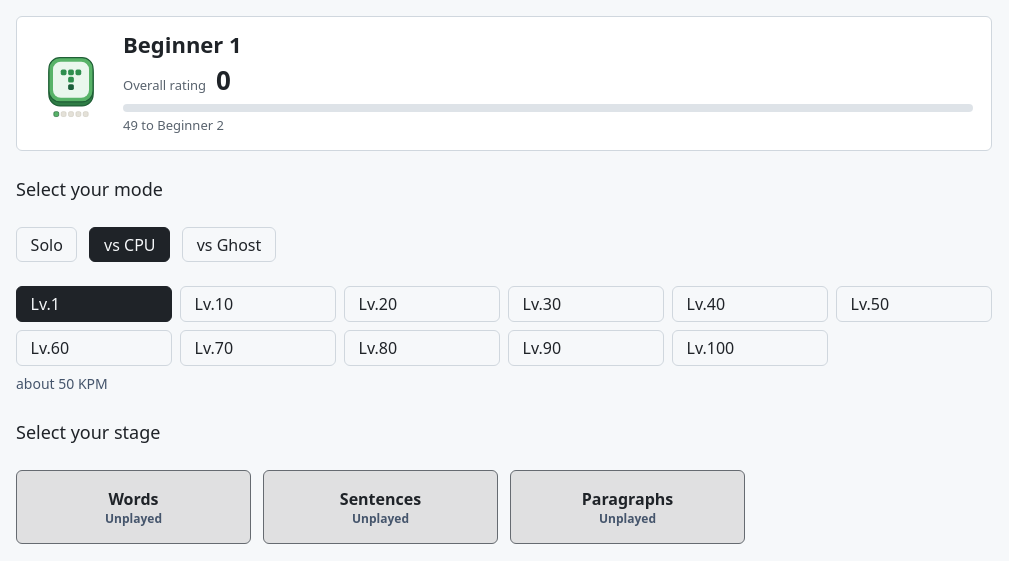
each screen shows one track › starts a run in a pool of the track, named by its kind, and hints the track's CPU speed
This screenshot has width=1009, height=561.
Expected: the button "Words Unplayed" is shown, [16,470,251,544]
Click the button "vs CPU": (130, 245) [90,227,170,262]
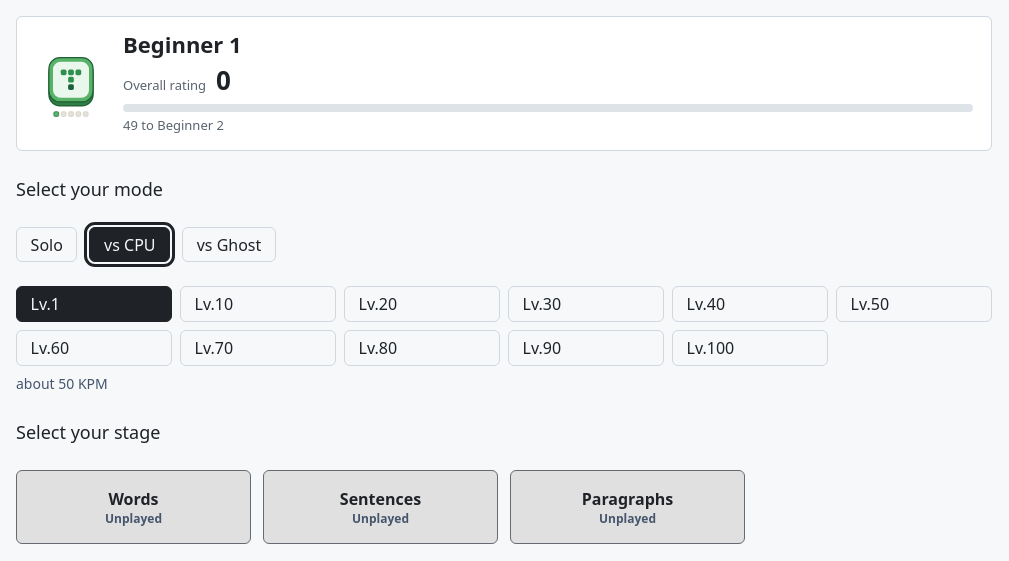
Click the button "Lv.100": (750, 348) [672,330,828,366]
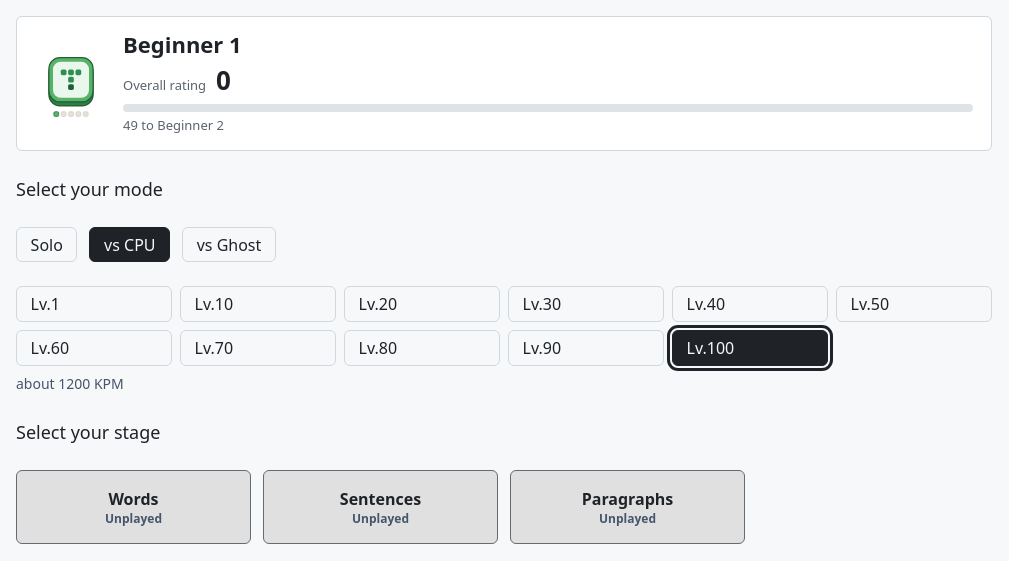
Now the text "about 1200 KPM" is shown, box [16,374,124,393]
